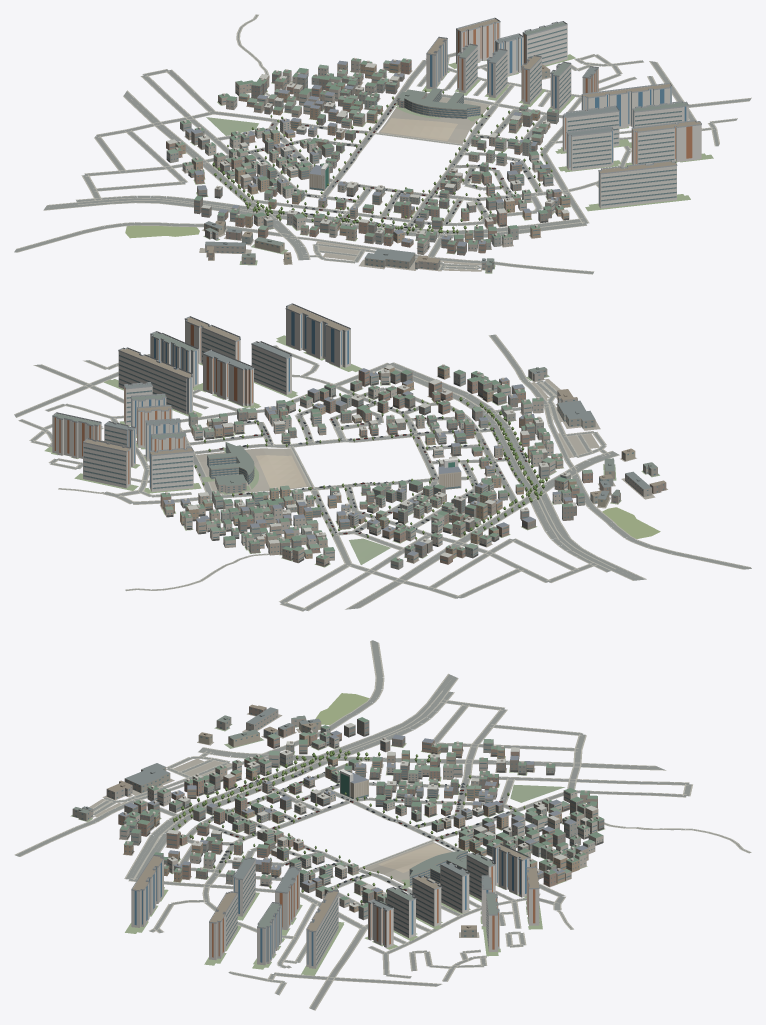
The picture shows the model from 3 angles, top to bottom: view 1: azimuth 30°, elevation 25°; view 2: azimuth 150°, elevation 25°; view 3: azimuth 270°, elevation 25°; orthographic projection. The views are drawn at different scales.
Parts seen in each view (by area): view 1: context-villa-infill, context-osm-buildings, context-osm-roads, context-osm-sidewalks, context-building-plinths; view 2: context-villa-infill, context-osm-buildings, context-osm-roads, context-osm-sidewalks, context-building-plinths; view 3: context-villa-infill, context-osm-buildings, context-osm-roads, context-osm-sidewalks, context-building-plinths.
Boxes of the visible parts, x1,y1,x2,y2 form: context-villa-infill: [166, 57, 570, 255]; context-osm-buildings: [204, 17, 701, 272]; context-osm-roads: [14, 14, 751, 273]; context-osm-sidewalks: [16, 14, 751, 274]; context-building-plinths: [125, 54, 713, 273]; context-villa-infill: [160, 364, 592, 569]; context-osm-buildings: [52, 303, 666, 506]; context-osm-roads: [14, 334, 751, 611]; context-osm-sidewalks: [14, 334, 750, 611]; context-building-plinths: [44, 335, 667, 564]; context-villa-infill: [118, 717, 604, 920]; context-osm-buildings: [72, 704, 539, 968]; context-osm-roads: [15, 640, 750, 1009]; context-osm-sidewalks: [14, 641, 751, 1010]; context-building-plinths: [70, 693, 564, 976].
Size of the model in its own units: 979 by 54.53 by 822.
